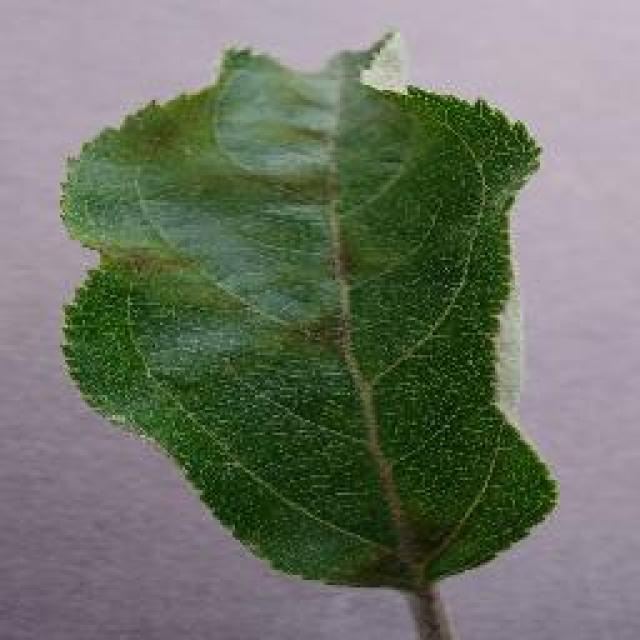apple scab disease: (55, 28, 560, 598)
